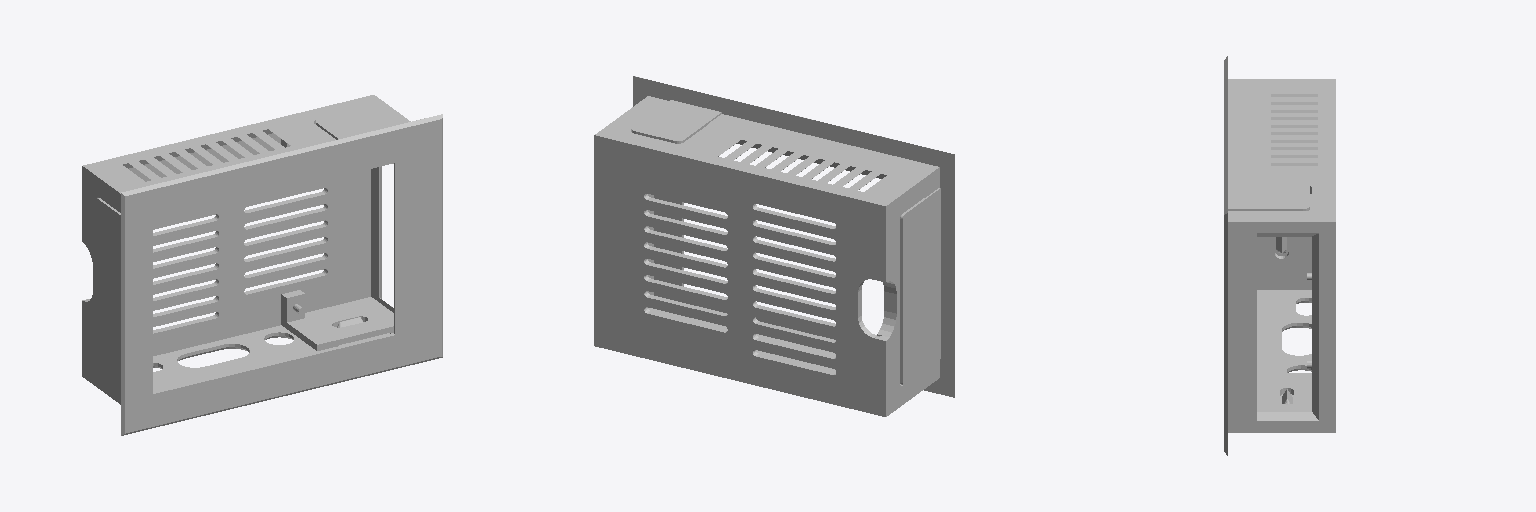
The model's file is case_base_lid.obj.
3 renders of one model, left to right at view 1: azimuth 30°, elevation 25°; view 2: azimuth 150°, elevation 25°; view 3: azimuth 270°, elevation 25°, orthographic.
Visible parts, largest first — view 1: Body, Body001; view 2: Body, Body001; view 3: Body, Body001.
Part boxes in pixels (bbox=[...]): Body: bbox=[82, 95, 410, 404]; Body001: bbox=[96, 109, 442, 435]; Body: bbox=[594, 107, 924, 416]; Body001: bbox=[632, 76, 954, 397]; Body: bbox=[1257, 79, 1335, 432]; Body001: bbox=[1224, 56, 1309, 455].
Size of the model in its own units: 104 by 75 by 31.